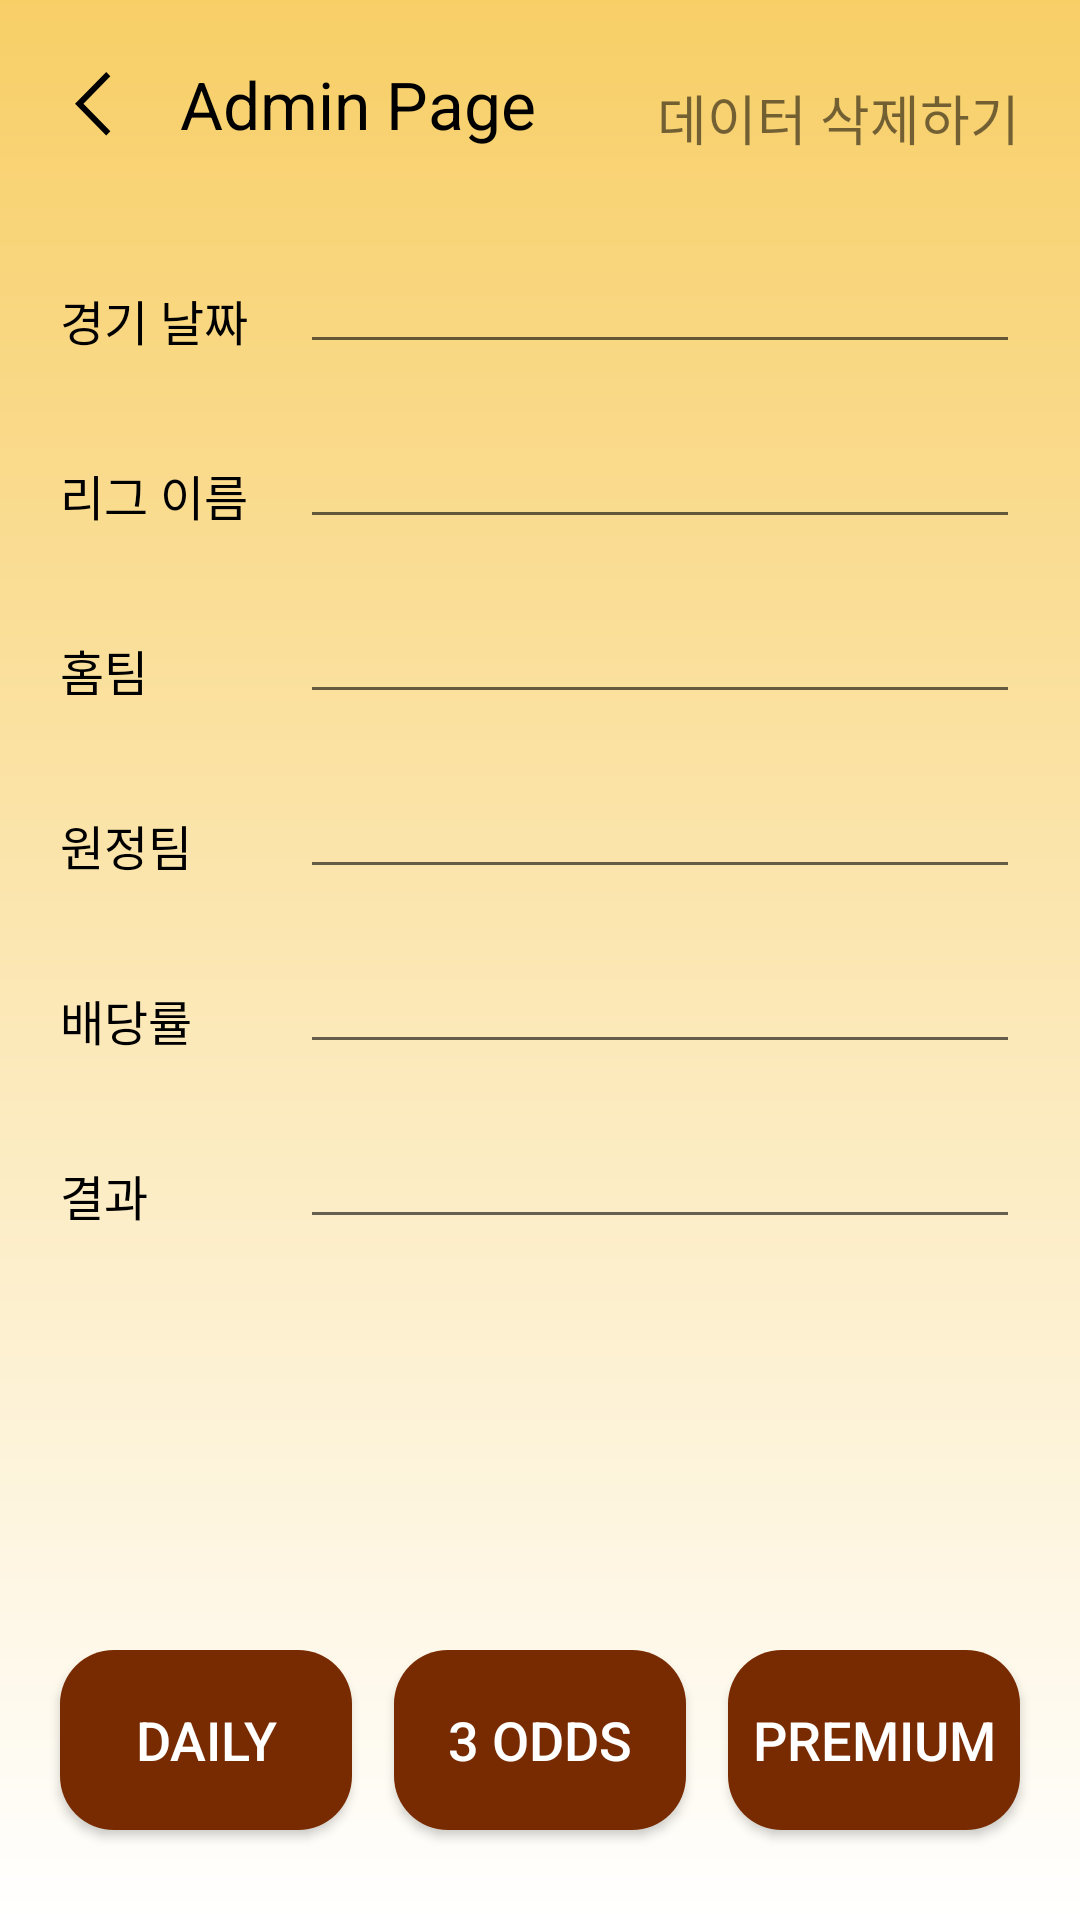

Named icons in this screenshot (1080px x 1920px) and their centers, (x=x, y=y):
back: (x=93, y=104)
